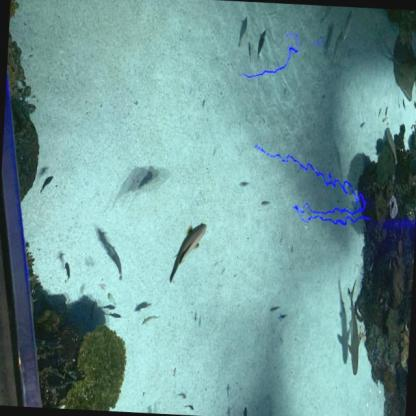fish: (167, 218, 209, 288), (102, 242, 126, 283), (253, 28, 268, 62), (322, 22, 335, 60), (341, 10, 355, 42), (332, 30, 343, 66), (140, 313, 162, 329), (39, 173, 54, 196), (238, 18, 247, 46), (105, 292, 119, 308), (62, 261, 72, 283), (140, 170, 153, 186), (277, 311, 290, 323), (104, 312, 122, 319), (240, 404, 251, 415), (401, 96, 408, 112), (259, 200, 271, 208), (358, 121, 366, 130), (382, 115, 390, 124), (202, 99, 207, 111), (412, 100, 415, 111)
shark: (343, 279, 365, 376)
